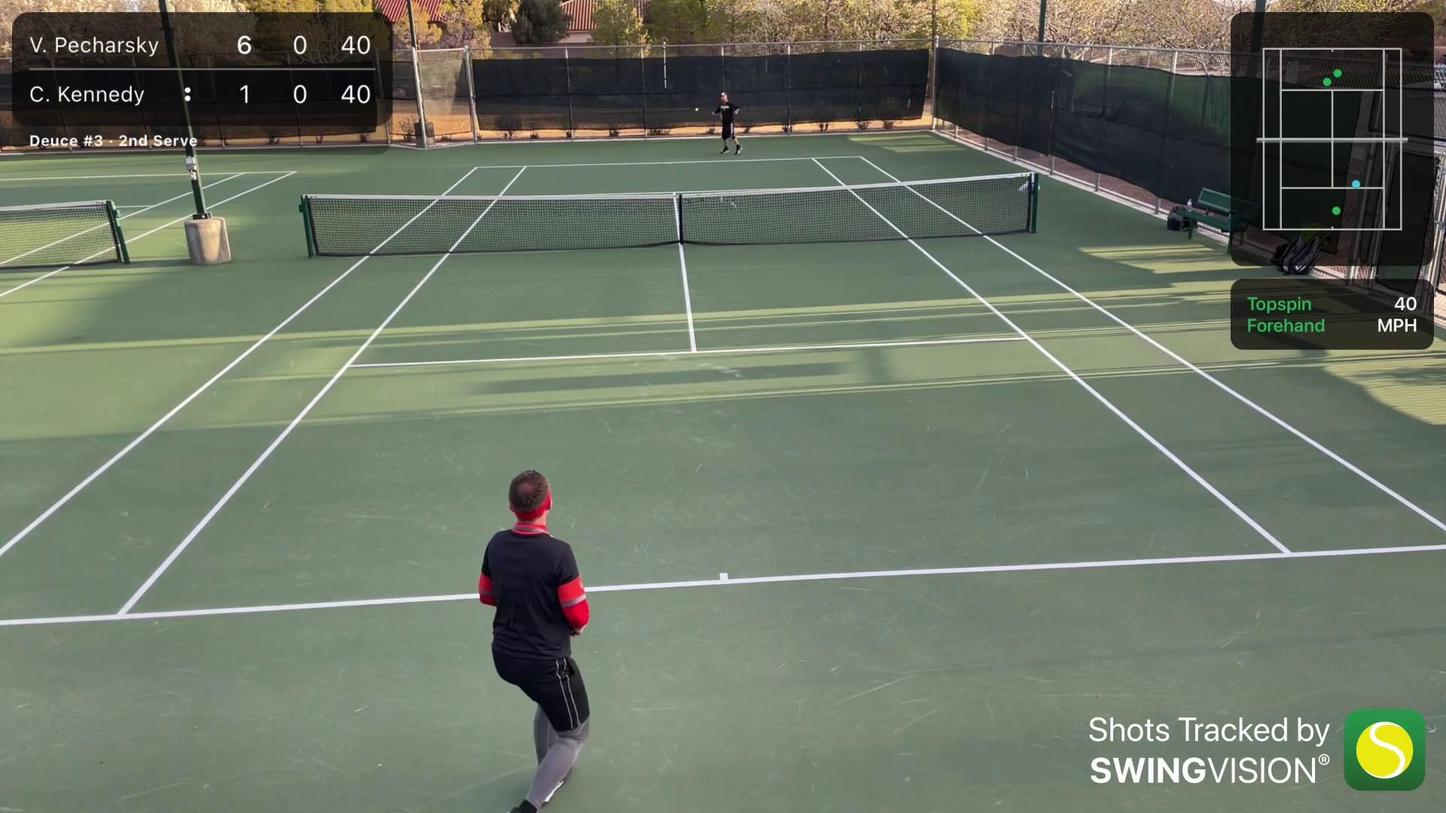ball: (693, 107, 700, 112)
